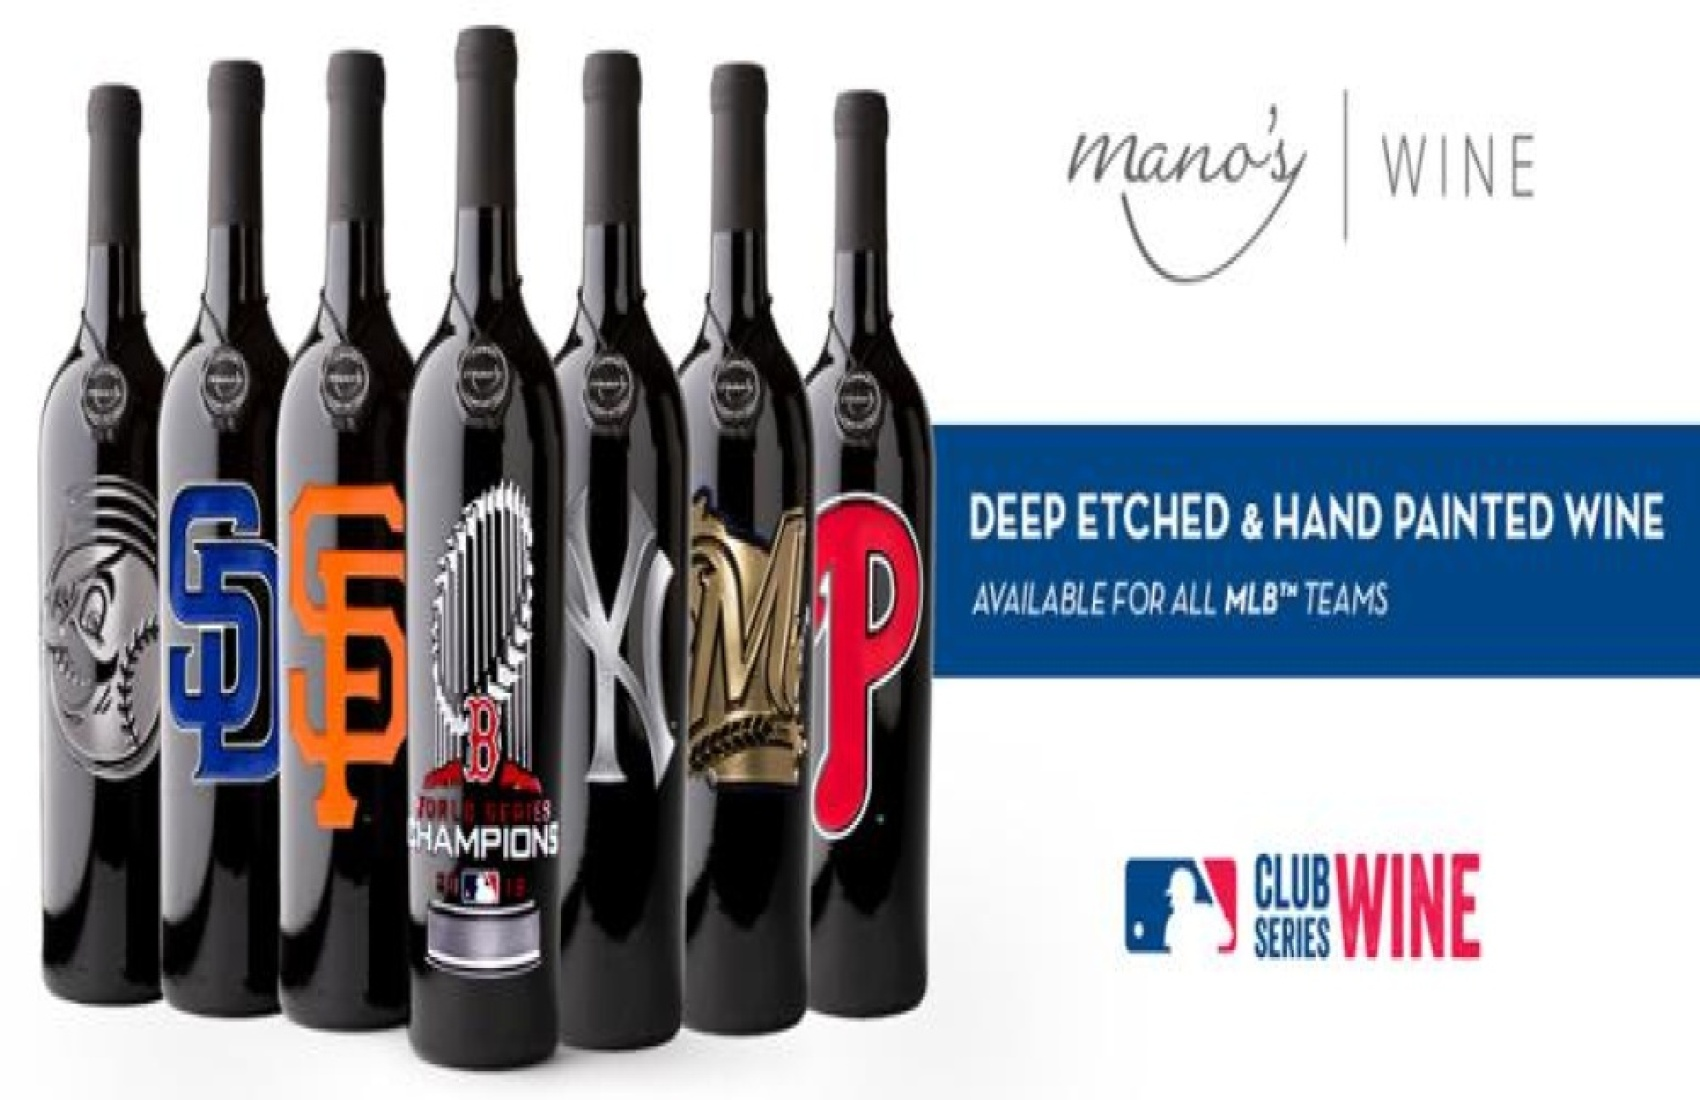wine: (401, 83, 565, 1067), (808, 38, 937, 1024), (36, 32, 165, 1018), (152, 30, 276, 1023), (280, 47, 404, 1041)
